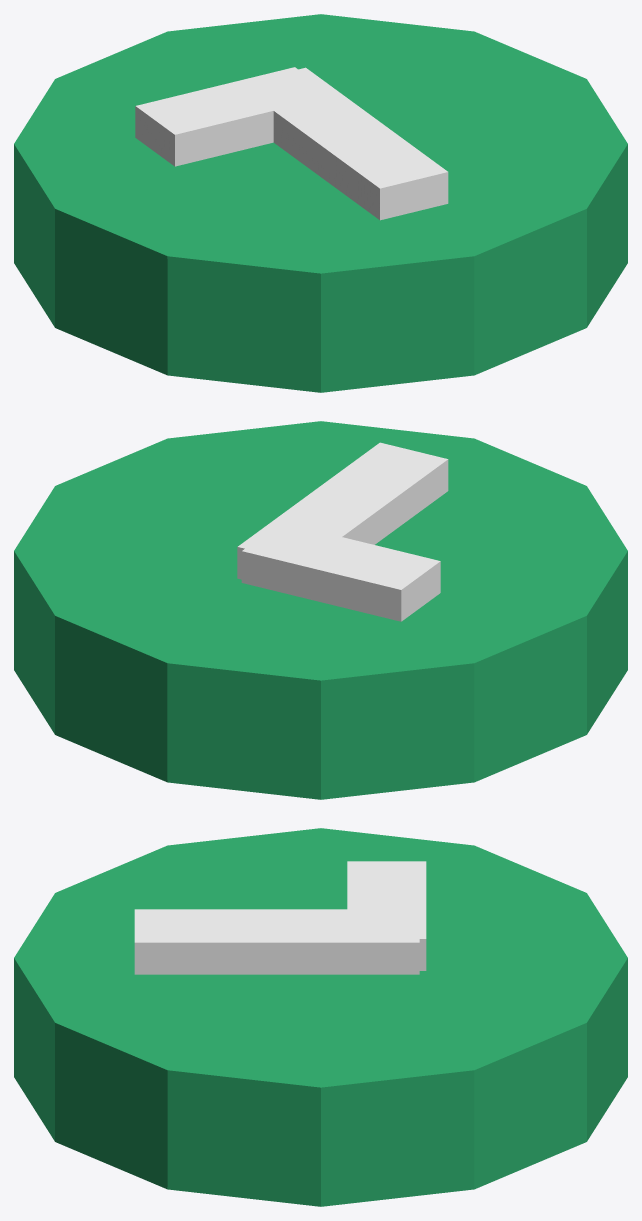
The model's file is Link_Port_Input_Connected_v001.fbx.
The picture shows the model from 3 angles, top to bottom: view 1: azimuth 30°, elevation 25°; view 2: azimuth 150°, elevation 25°; view 3: azimuth 270°, elevation 25°; orthographic projection.
Visible parts, largest first — view 1: PortDisc, PortDirection, PortDirection.001; view 2: PortDisc, PortDirection, PortDirection.001; view 3: PortDisc, PortDirection, PortDirection.001.
Boxes of the visible parts, x1,y1,x2,y2 form: PortDisc: (14,14,627,392); PortDirection: (259,67,448,220); PortDirection.001: (135,67,327,166); PortDisc: (14,421,627,799); PortDirection: (237,442,448,579); PortDirection.001: (241,523,440,621); PortDisc: (14,828,627,1206); PortDirection: (134,909,419,974); PortDirection.001: (347,861,426,970).
Size of the model in its own units: 14 by 3.8 by 14.
